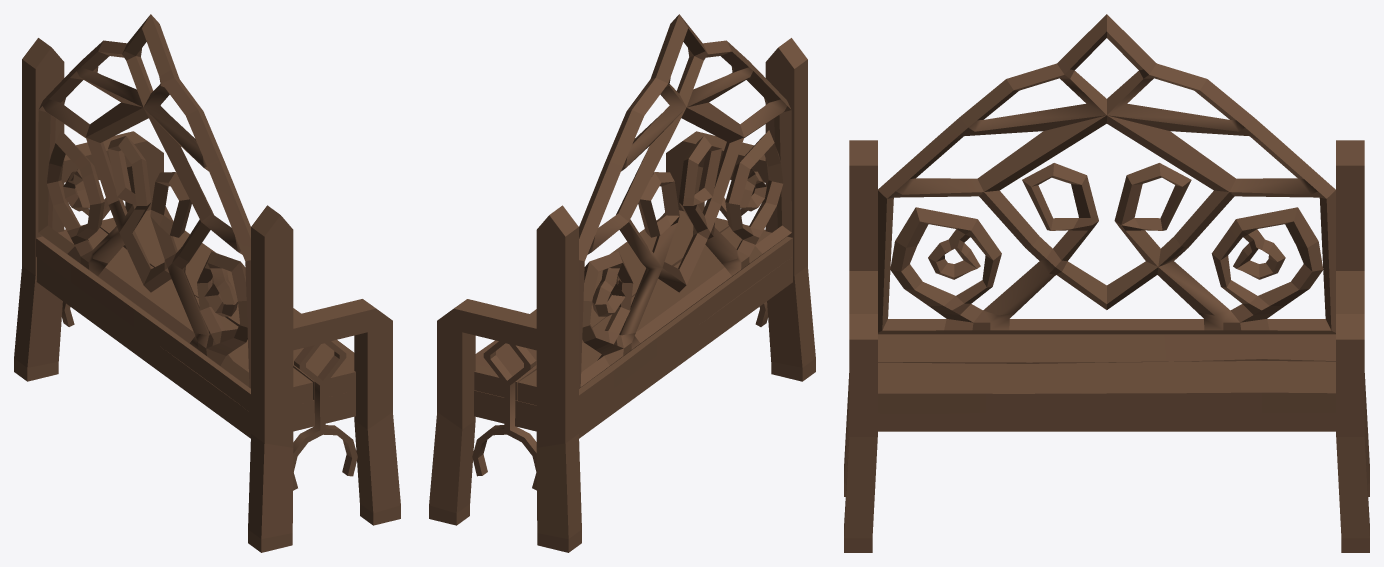
The model's file is Bench.fbx.
3 views of the same model, side by side, from view 1: azimuth 30°, elevation 25°; view 2: azimuth 150°, elevation 25°; view 3: azimuth 270°, elevation 25° (orthographic). The views are drawn at different scales.
Visible parts, largest first — view 1: Bench; view 2: Bench; view 3: Bench.
Boxes of the visible parts, x1,y1,x2,y2 form: Bench: [14, 14, 400, 552]; Bench: [429, 14, 815, 552]; Bench: [844, 14, 1369, 552].
Size of the model in its own units: 2.76 by 8.4 by 8.46.
